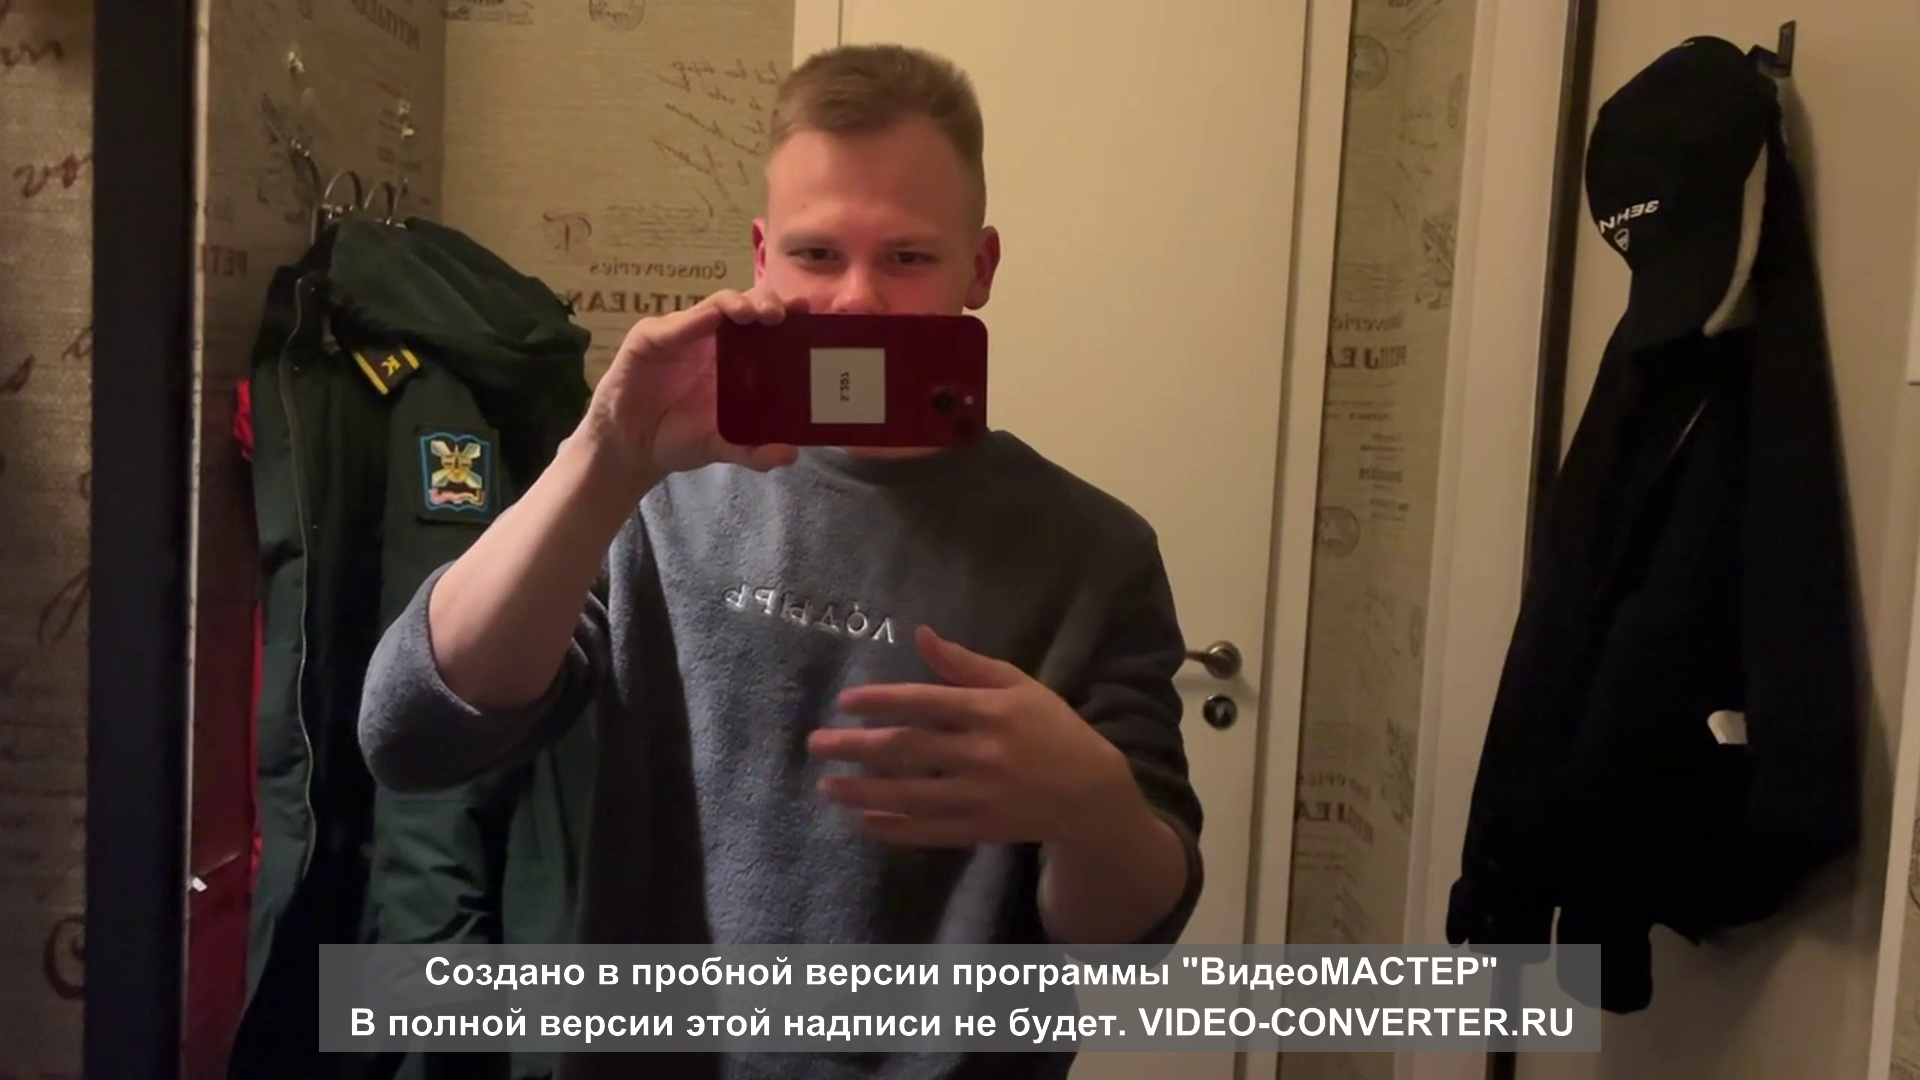Кисть: (806, 624, 1095, 849)
